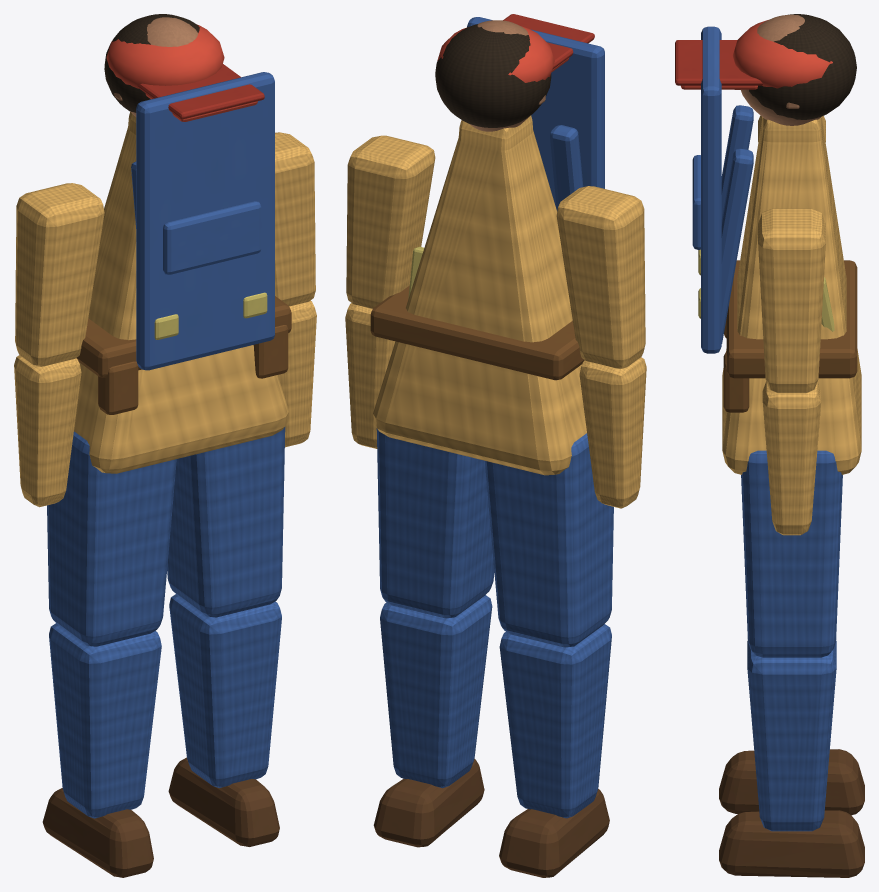
The model's file is ped_overalls.glb.
3 renders of one model, left to right at view 1: azimuth 30°, elevation 25°; view 2: azimuth 150°, elevation 25°; view 3: azimuth 270°, elevation 25°, orthographic.
Visible parts, largest first — view 1: bib, torso, upper_leg_R, upper_leg_L, lower_leg_R, lower_leg_L, upper_arm_R, lower_arm_R, upper_arm_L, shoe_R, shoe_L, bib_pocket (+8 smaller); view 2: torso, upper_leg_R, upper_leg_L, lower_leg_R, lower_leg_L, upper_arm_R, upper_arm_L, hair, lower_arm_R, tool_belt, bib, shoe_R (+6 smaller); view 3: torso, upper_leg_L, lower_leg_L, upper_arm_L, shoe_L, lower_arm_L, bib, hair, tool_belt, shoe_R, cap, strap_L (+6 smaller).
Boxes of the visible parts, x1=… form: bib: x1=136, y1=72, x2=274, y2=370; torso: x1=74, y1=112, x2=288, y2=473; upper_leg_R: x1=47, y1=431, x2=176, y2=646; upper_leg_L: x1=167, y1=426, x2=285, y2=617; lower_leg_R: x1=49, y1=623, x2=161, y2=818; lower_leg_L: x1=169, y1=594, x2=281, y2=788; upper_arm_R: x1=15, y1=183, x2=104, y2=366; lower_arm_R: x1=14, y1=355, x2=81, y2=507; upper_arm_L: x1=275, y1=132, x2=315, y2=306; shoe_R: x1=42, y1=788, x2=153, y2=877; shoe_L: x1=168, y1=757, x2=279, y2=846; bib_pocket: x1=163, y1=201, x2=261, y2=274; torso: x1=373, y1=115, x2=586, y2=475; upper_leg_R: x1=485, y1=433, x2=613, y2=647; upper_leg_L: x1=376, y1=428, x2=494, y2=618; lower_leg_R: x1=499, y1=624, x2=611, y2=818; lower_leg_L: x1=380, y1=595, x2=492, y2=788; upper_arm_R: x1=556, y1=186, x2=645, y2=368; upper_arm_L: x1=346, y1=135, x2=435, y2=308; hair: x1=435, y1=24, x2=551, y2=127; lower_arm_R: x1=579, y1=357, x2=646, y2=508; tool_belt: x1=370, y1=285, x2=584, y2=380; bib: x1=467, y1=17, x2=604, y2=208; shoe_R: x1=499, y1=789, x2=609, y2=877; torso: x1=722, y1=117, x2=861, y2=474; upper_leg_L: x1=741, y1=450, x2=842, y2=657; lower_leg_L: x1=747, y1=640, x2=836, y2=831; upper_arm_L: x1=758, y1=208, x2=825, y2=393; shoe_L: x1=719, y1=810, x2=864, y2=877; lower_arm_L: x1=762, y1=381, x2=821, y2=535; bib: x1=701, y1=26, x2=721, y2=353; hair: x1=749, y1=14, x2=856, y2=119; tool_belt: x1=726, y1=260, x2=857, y2=378; shoe_R: x1=719, y1=749, x2=864, y2=815; cap: x1=733, y1=20, x2=832, y2=88; strap_L: x1=721, y1=148, x2=753, y2=343.
Size of the model in its own units: 0.639 by 1.75 by 0.3664.
11 materials, 11 textured.
